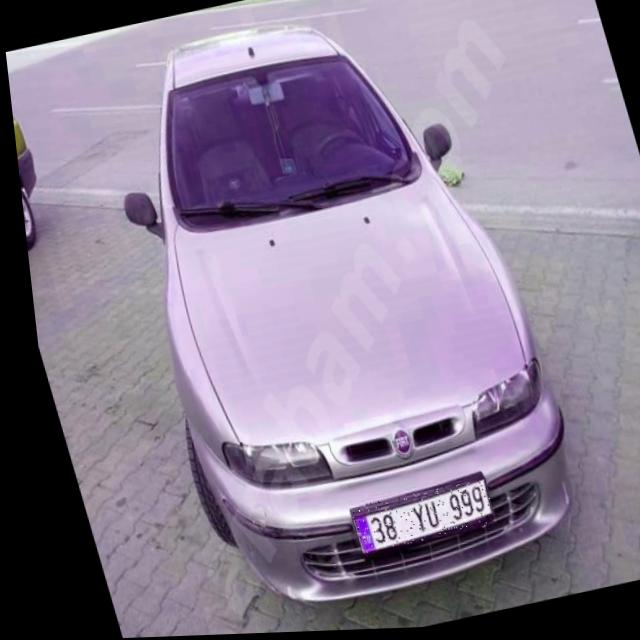license_plate: (335, 481, 486, 556)
